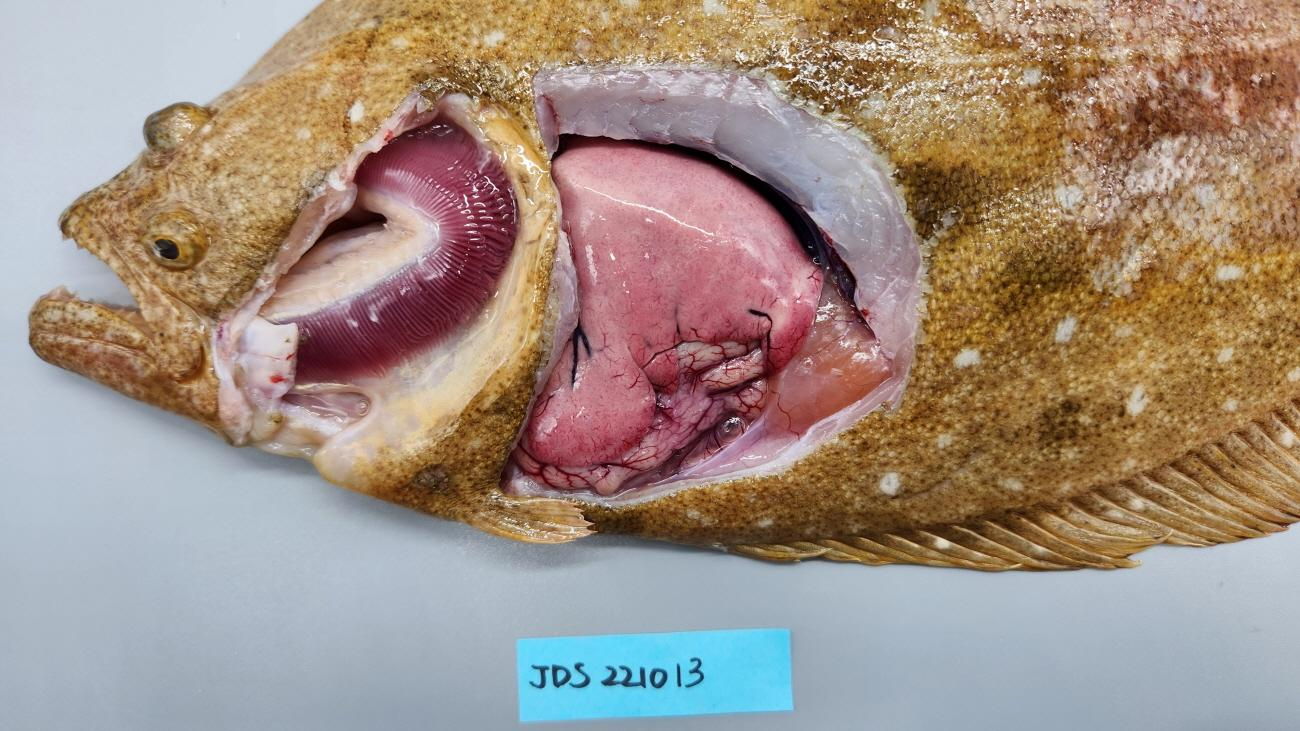POGIN: (267, 111, 519, 385)
POLIN: (527, 135, 823, 466)
